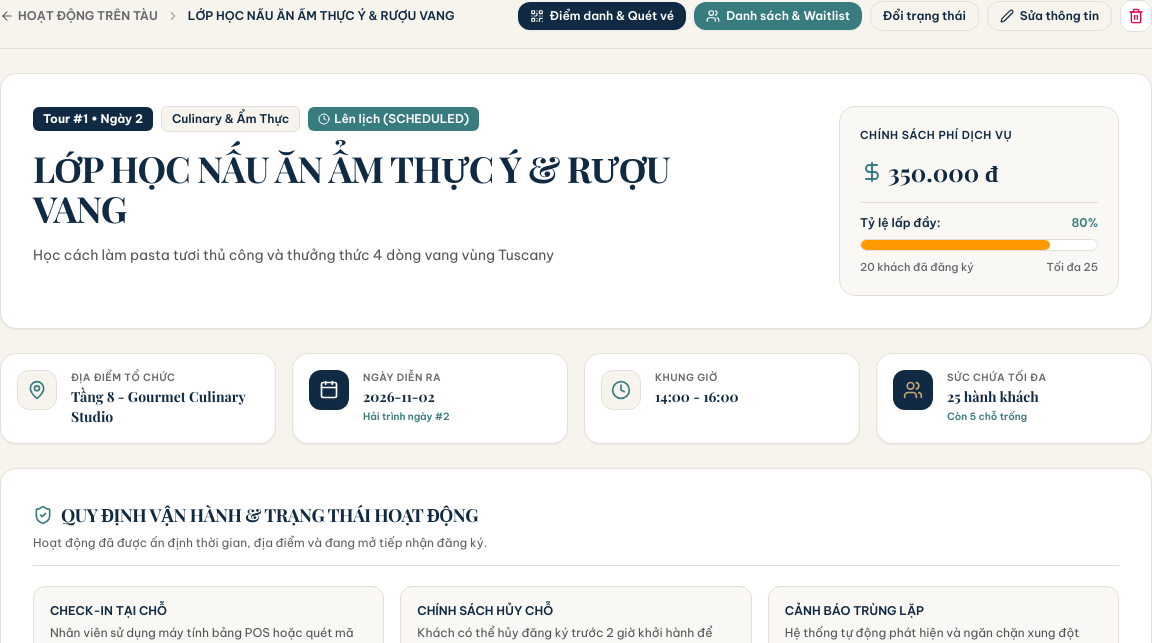
Test: ActivityDetailPage Component Tests (KAN-141) › opens ActivityModal in edit mode when clicking "Sửa thông tin"
The width and height of the screenshot is (1152, 643).
Click the button "Sửa thông tin". click: coordinates (1049, 16)
box: x1=987 y1=1 x2=1112 y2=31
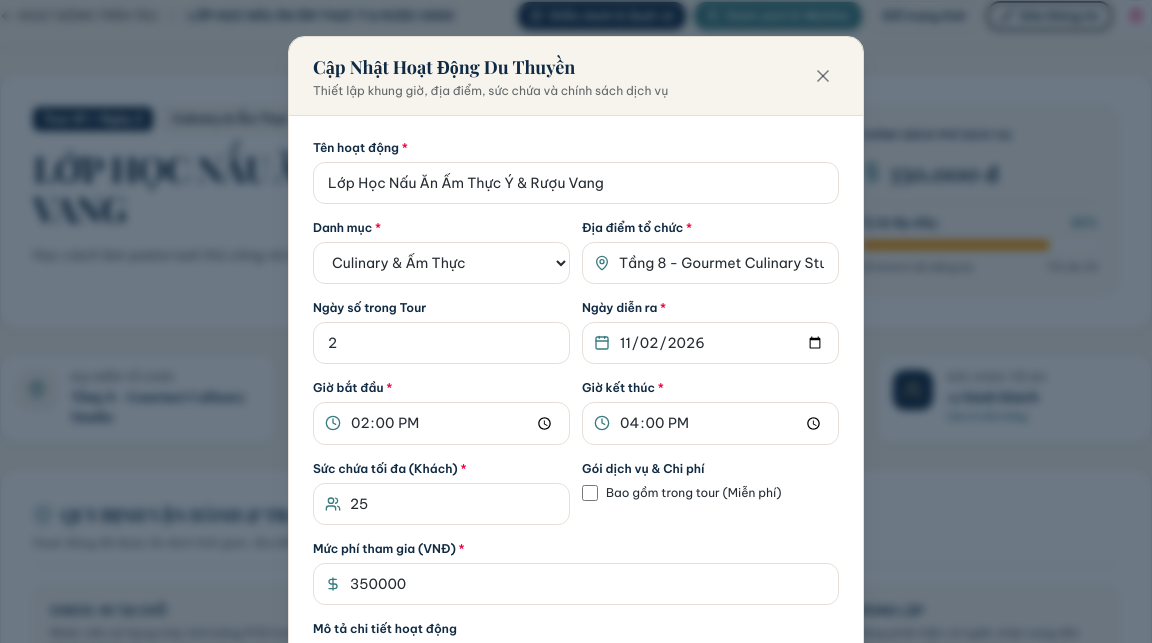
Check: the heading "Cập Nhật Hoạt Động Du Thuyền" is shown, box x1=313 y1=55 x2=575 y2=79
